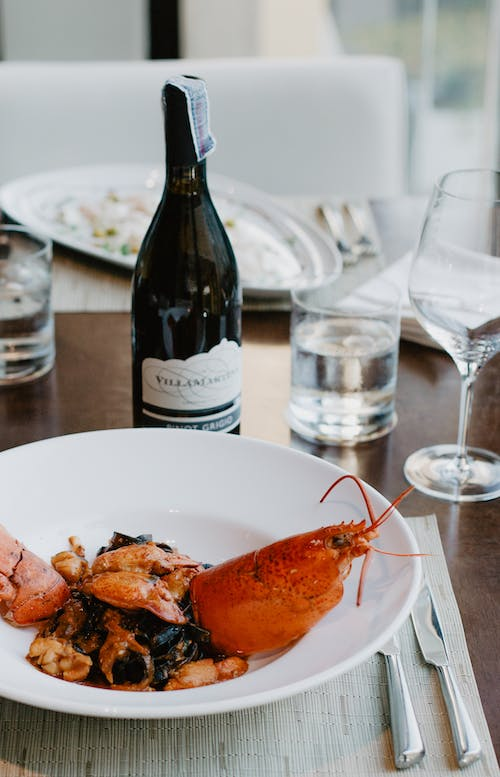alcohol: (130, 73, 241, 436)
knife: (407, 573, 485, 769), (376, 633, 429, 772)
